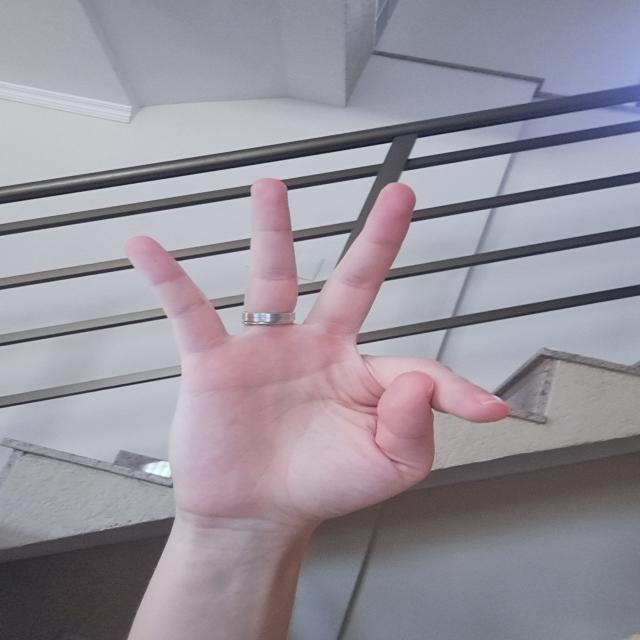T: (118, 171, 518, 543)
